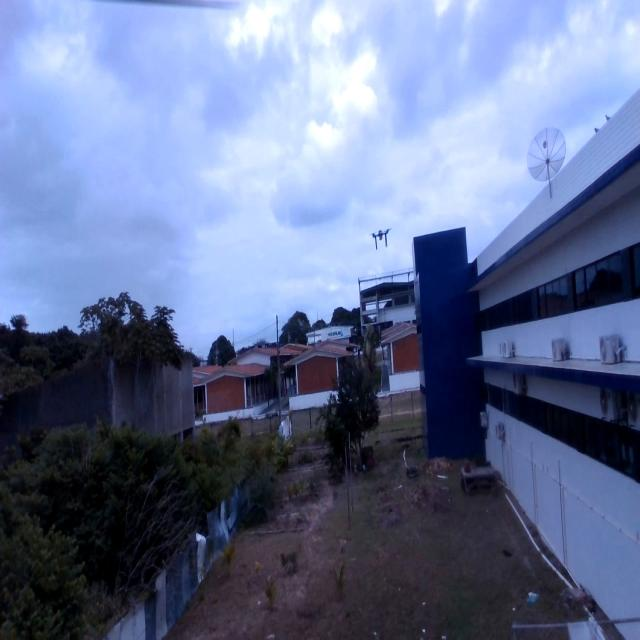-uav-: (368, 220, 397, 256)
